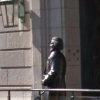Statue: (36, 30, 72, 91)
